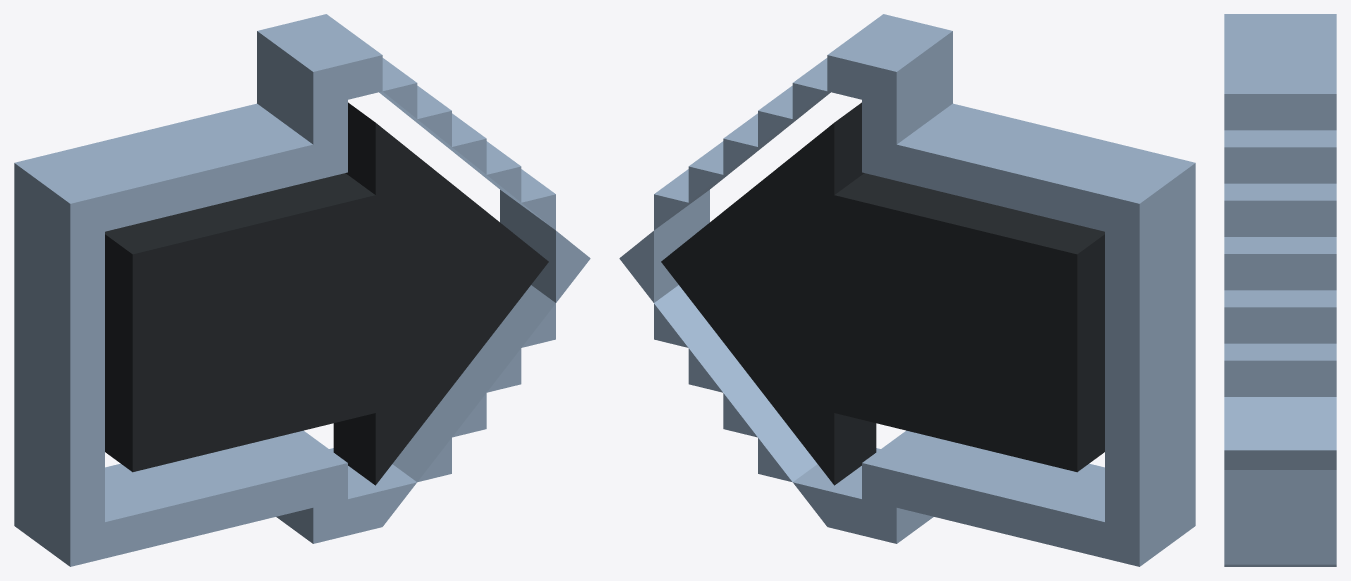
Rendered from arrowright.glb.
The picture shows the model from 3 angles, left to right: view 1: azimuth 30°, elevation 25°; view 2: azimuth 150°, elevation 25°; view 3: azimuth 270°, elevation 25°; orthographic projection.
Visible parts, largest first — view 1: generated(Clone); view 2: generated(Clone); view 3: generated(Clone).
Part boxes in pixels (x1,y1,x2,y2): generated(Clone): [14, 14, 590, 566]; generated(Clone): [619, 14, 1195, 566]; generated(Clone): [1224, 14, 1336, 566].
Bounding box in the file's own units: 15 × 13 × 2.8.
